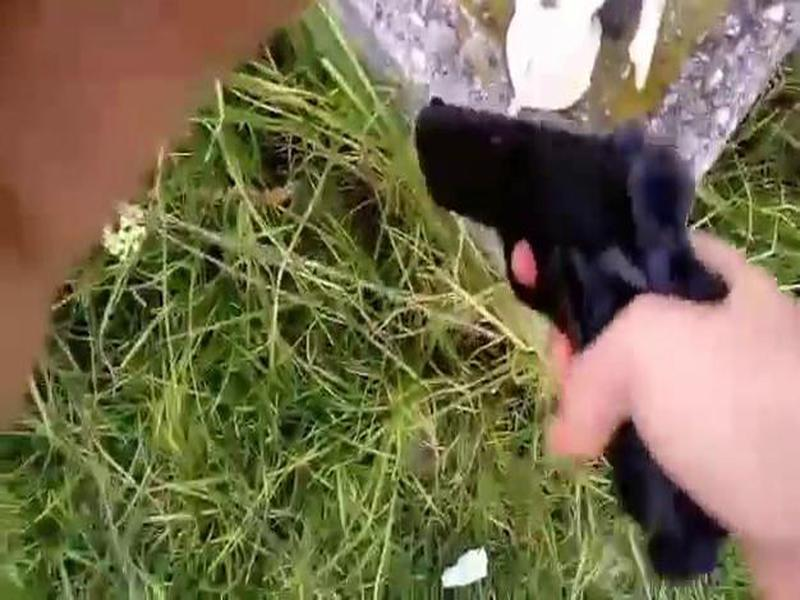Pistola: (397, 66, 744, 533)
